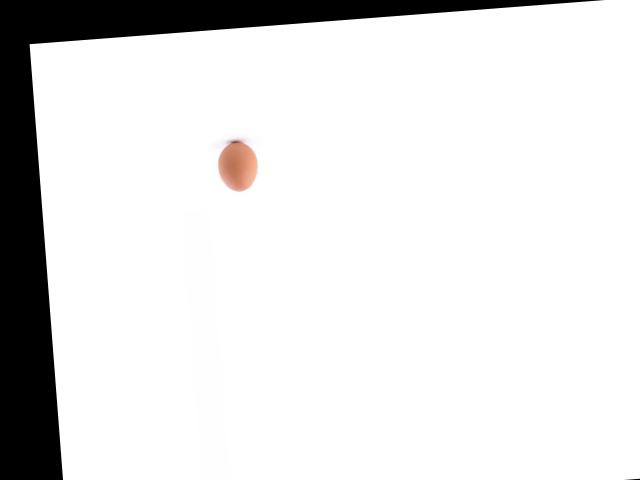egg: (215, 140, 259, 192)
